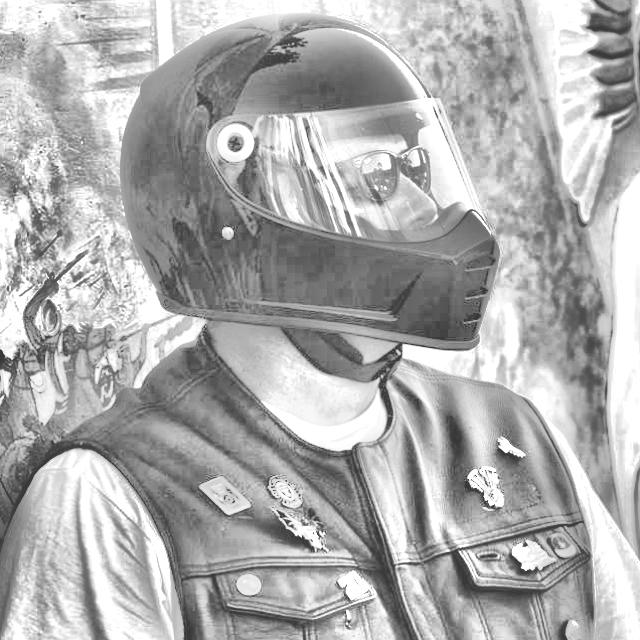Helmet: (113, 3, 503, 387)
